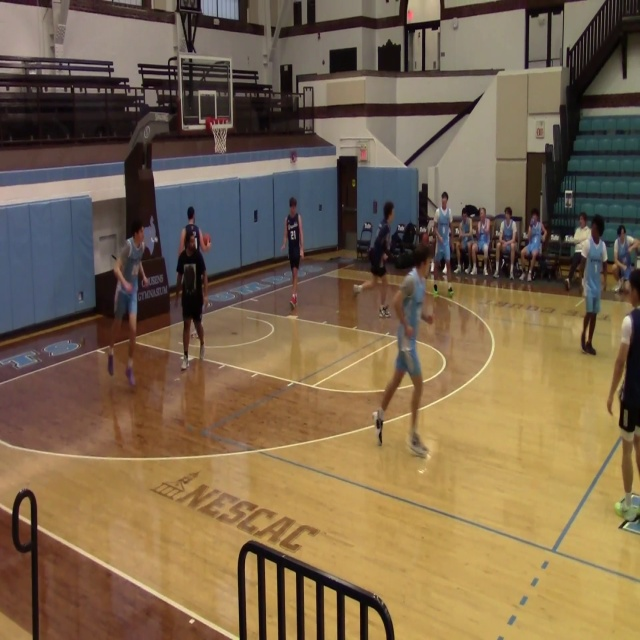Basketball: (202, 234, 210, 247), (447, 286, 453, 297), (433, 284, 438, 295)
